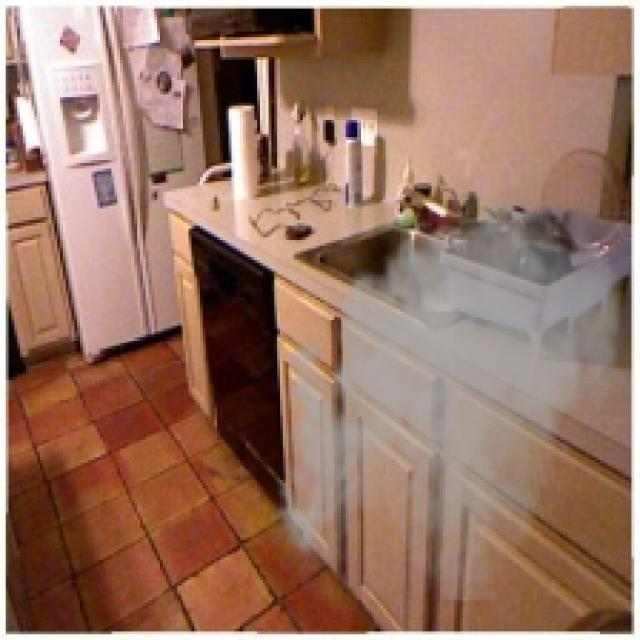smoke: (266, 180, 631, 606)
